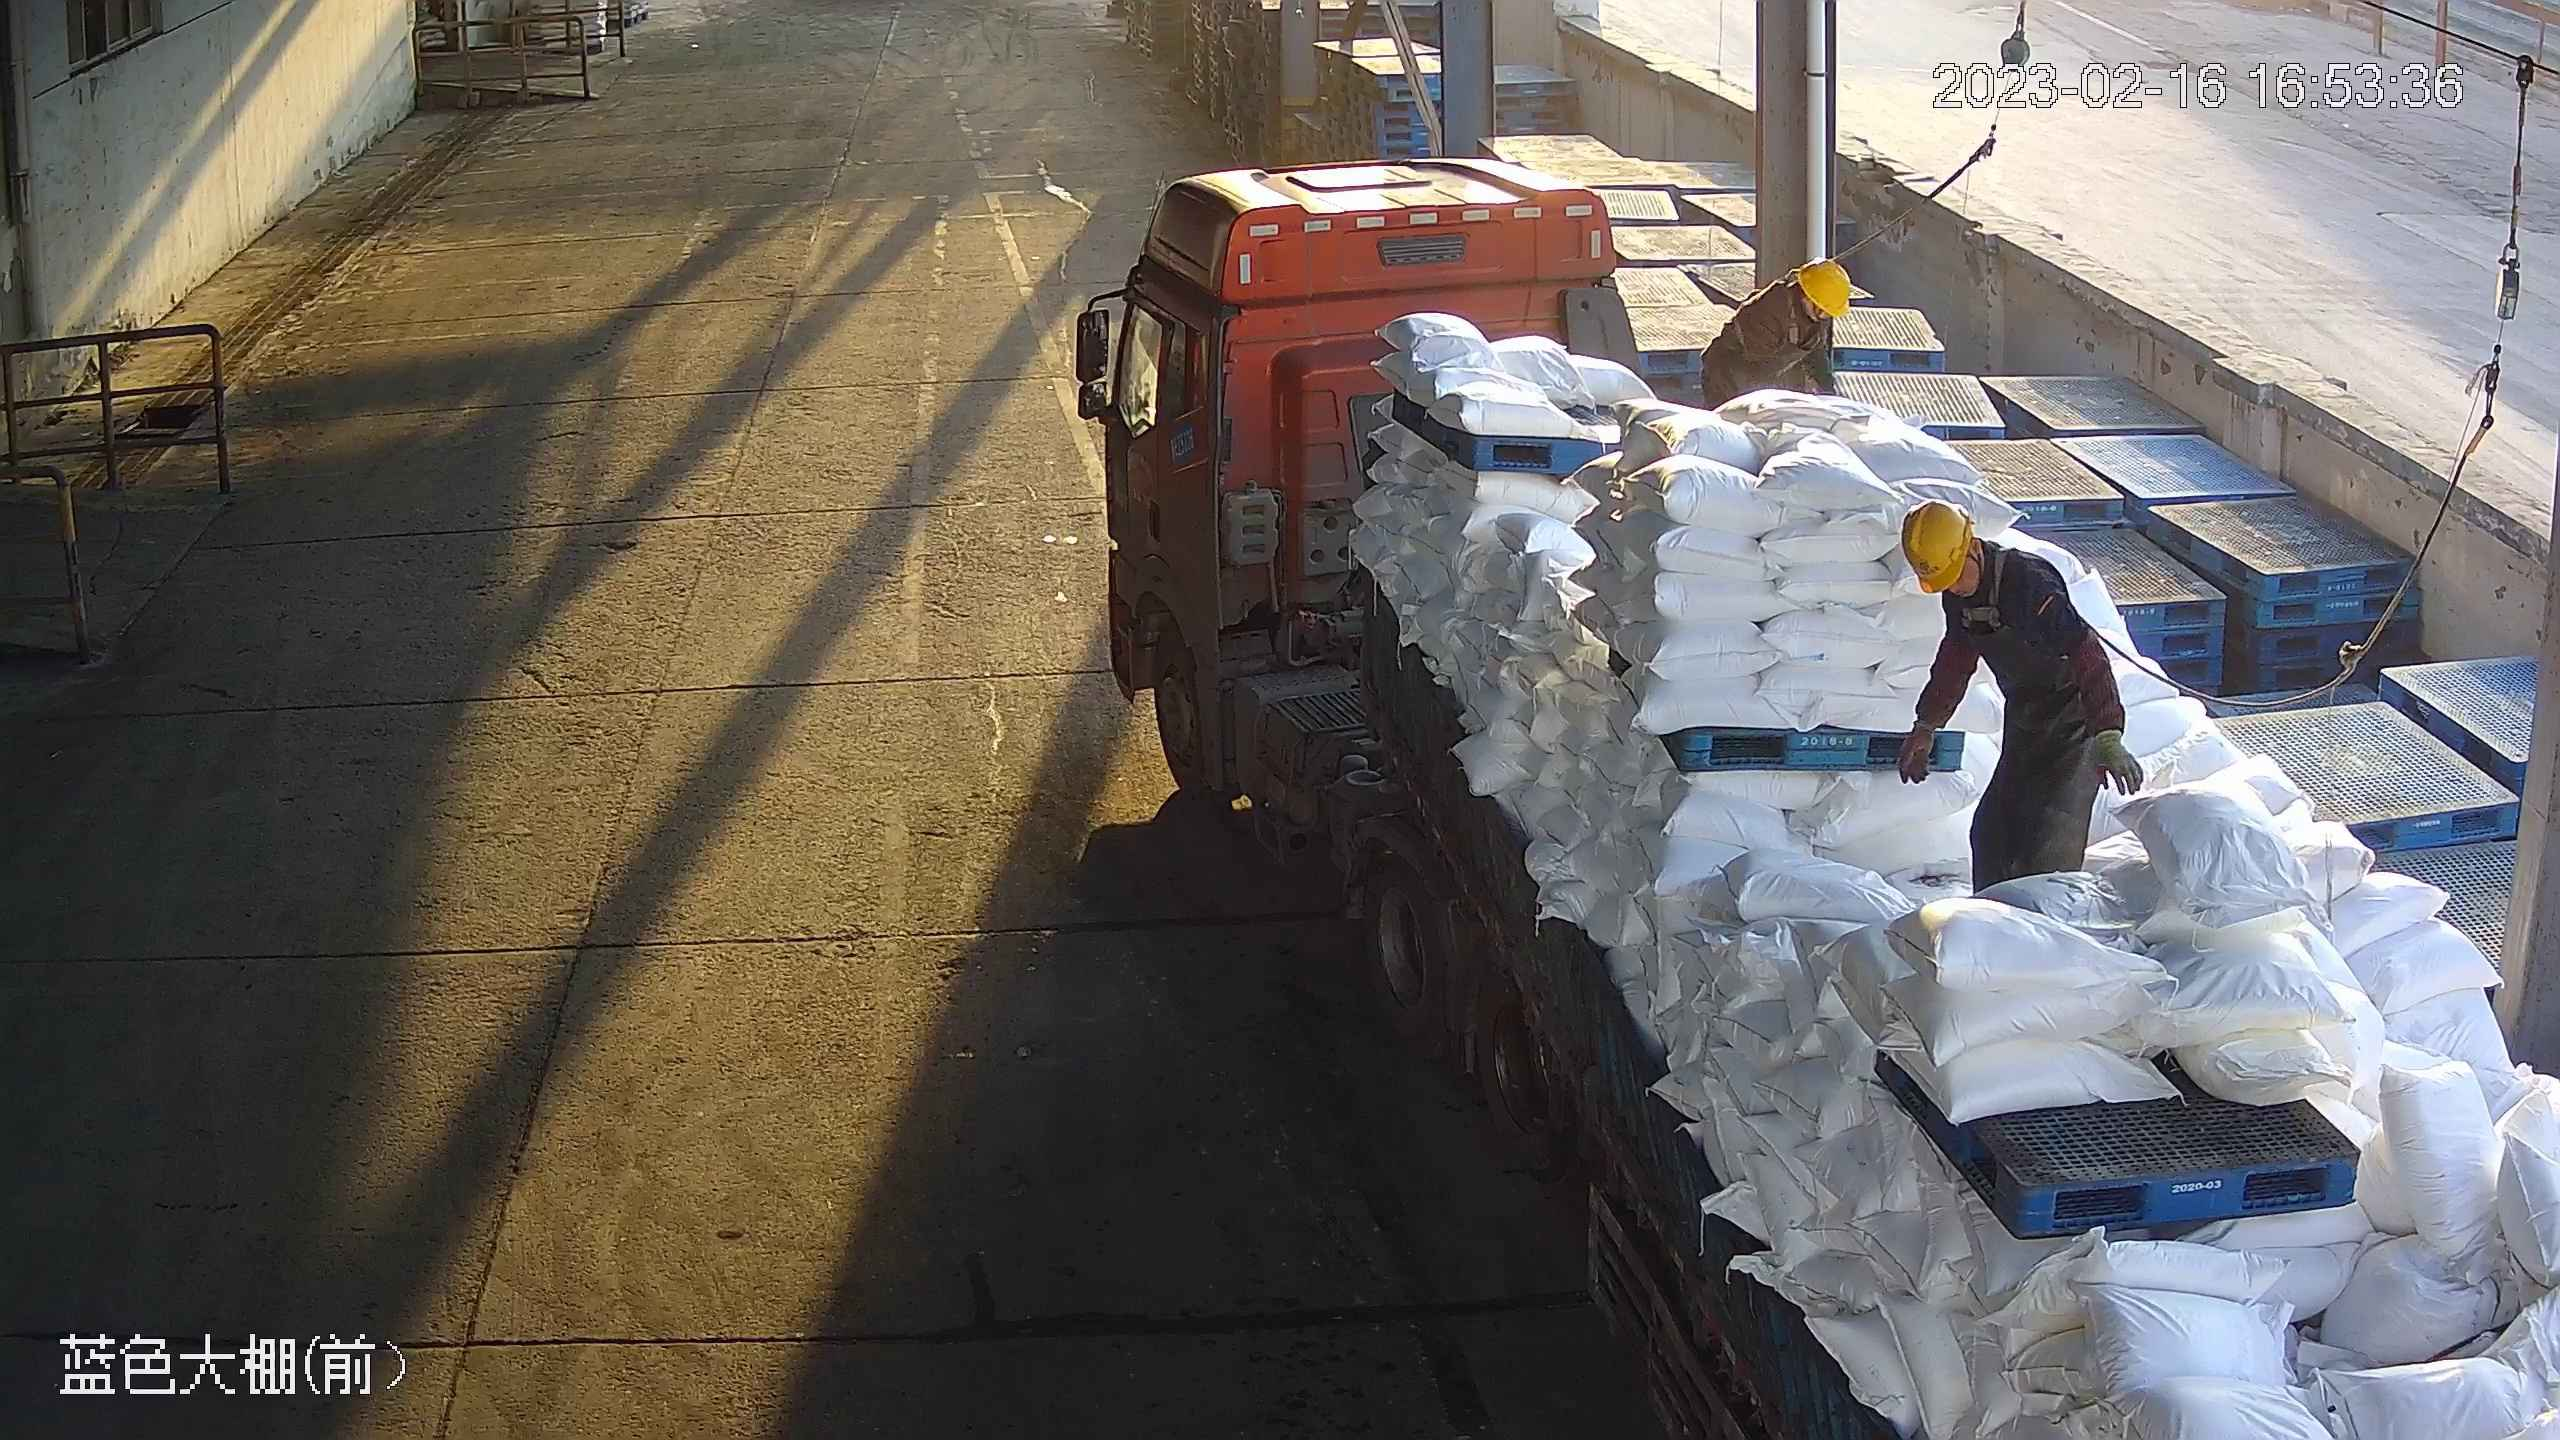belt: (1736, 280, 1812, 353), (1957, 551, 2018, 636)
head: (1903, 497, 2081, 654), (1720, 253, 1859, 375)
helmet: (1896, 497, 1985, 595), (1786, 253, 1857, 314)
people: (1890, 491, 2142, 916)
truck: (1086, 171, 2560, 1440)
